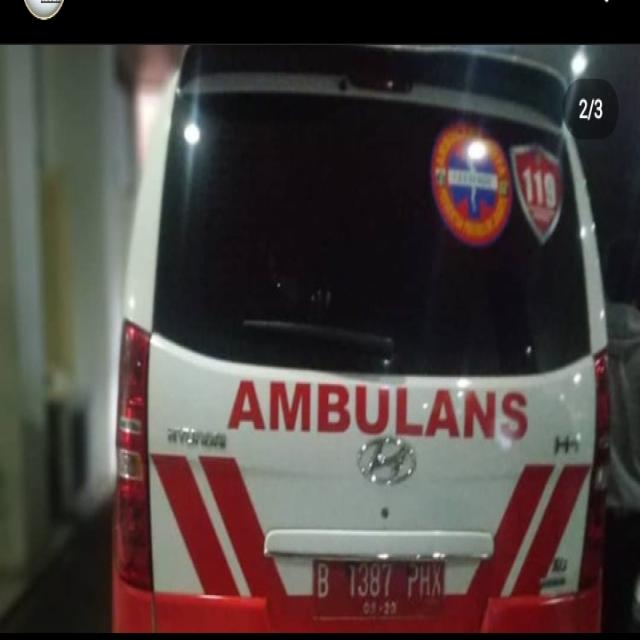emergency-vehicle: (120, 25, 612, 639)
